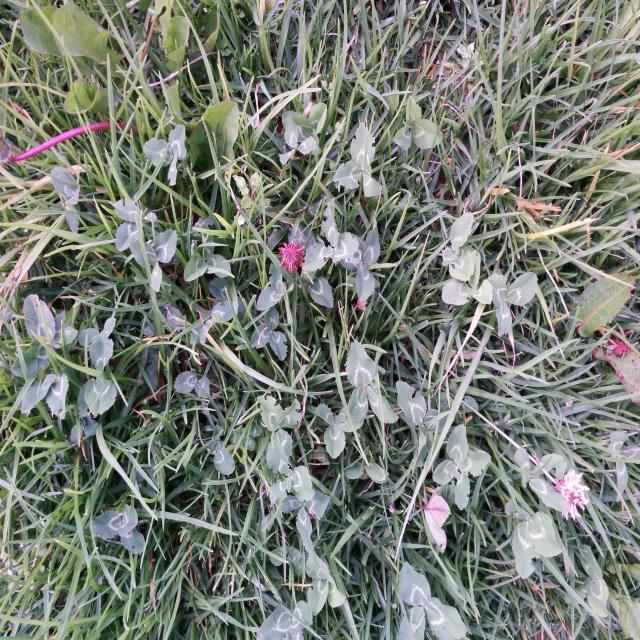Four Leaf Clover: (432, 424, 490, 510)
